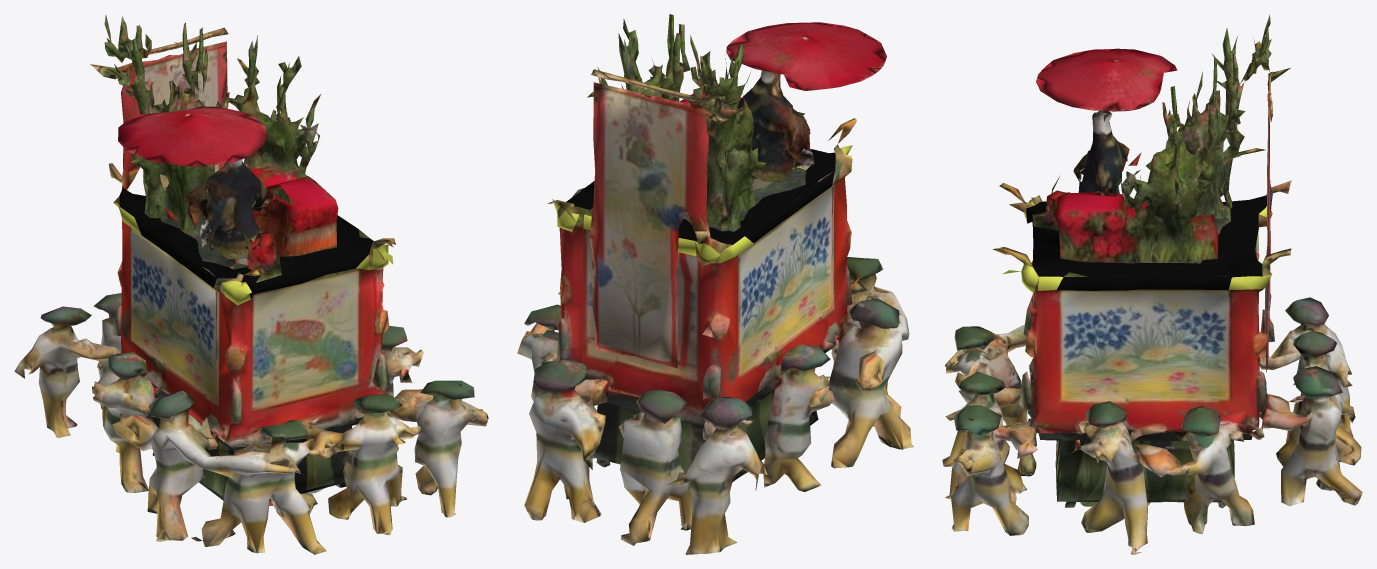
Rendered from 芦刈山.glb.
3 views of the same model, side by side, from view 1: azimuth 30°, elevation 25°; view 2: azimuth 150°, elevation 25°; view 3: azimuth 270°, elevation 25° (orthographic). The views are drawn at different scales.
Visible parts, largest first — view 1: Mesh1.0, Mesh1.001; view 2: Mesh1.0, Mesh1.001; view 3: Mesh1.0, Mesh1.001.
Part boxes in pixels (bbox=[...]): Mesh1.0: bbox=[14, 15, 488, 554]; Mesh1.001: bbox=[165, 159, 267, 258]; Mesh1.0: bbox=[517, 14, 913, 554]; Mesh1.001: bbox=[738, 70, 814, 181]; Mesh1.0: bbox=[942, 14, 1362, 554]; Mesh1.001: bbox=[1073, 111, 1141, 193].
Bounding box in the file's own units: 4.33 × 5.83 × 5.22.
Materials: 4 (2 with a texture image).
